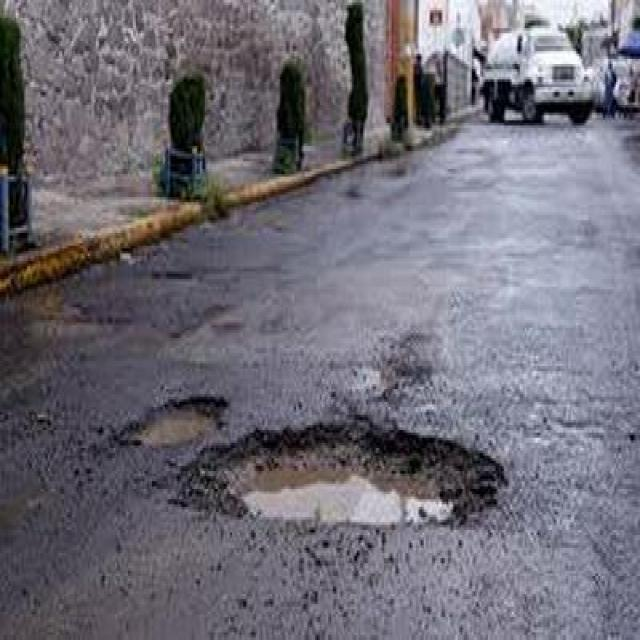Pothole: (110, 374, 556, 586)
